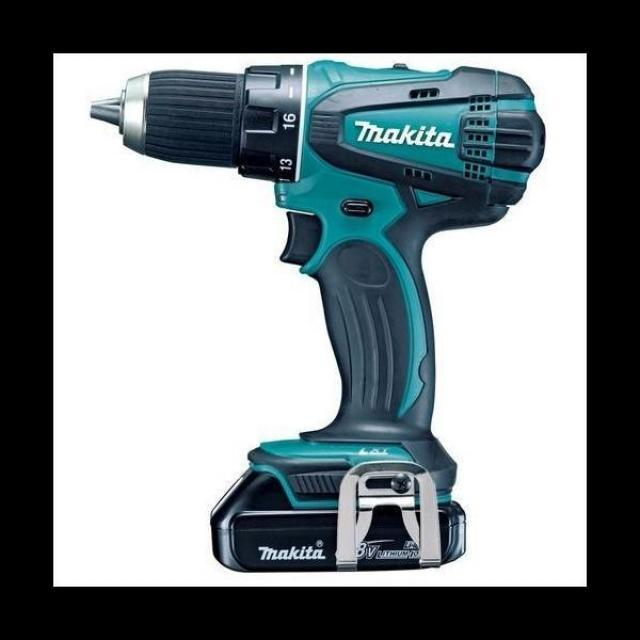drill: (89, 57, 549, 574)
